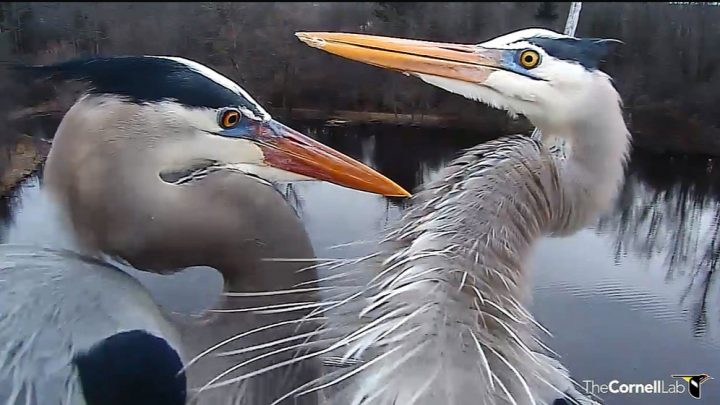heron: (5, 49, 409, 405), (294, 9, 632, 405)
